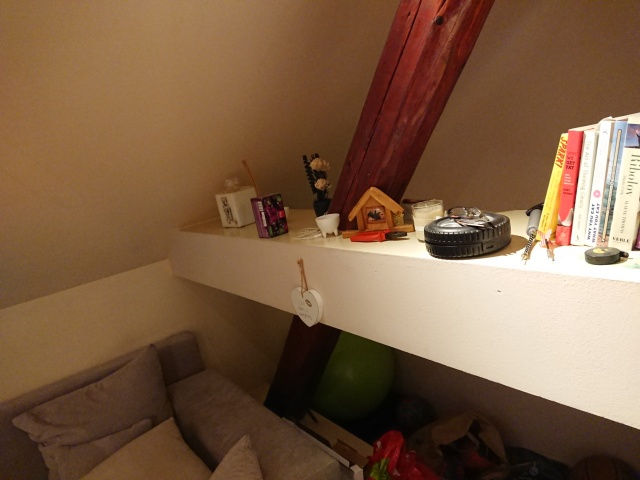Franck Black Currant Tea 60g: (248, 190, 291, 240)
